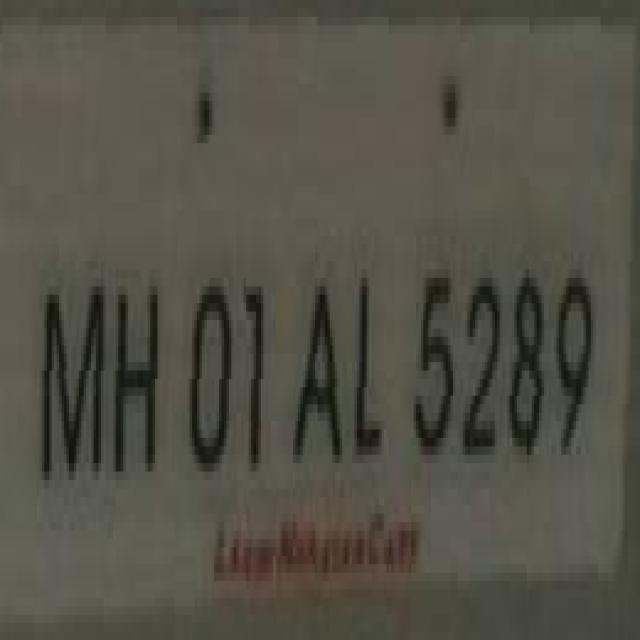license_plate: (0, 34, 606, 572)
